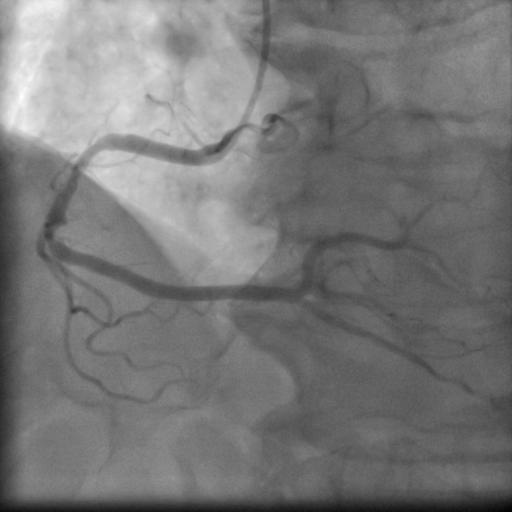Stenosis: (44, 132, 101, 233)
